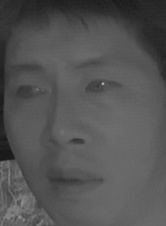eye: (9, 80, 52, 103), (83, 75, 121, 99)
mouth: (43, 163, 104, 199)
